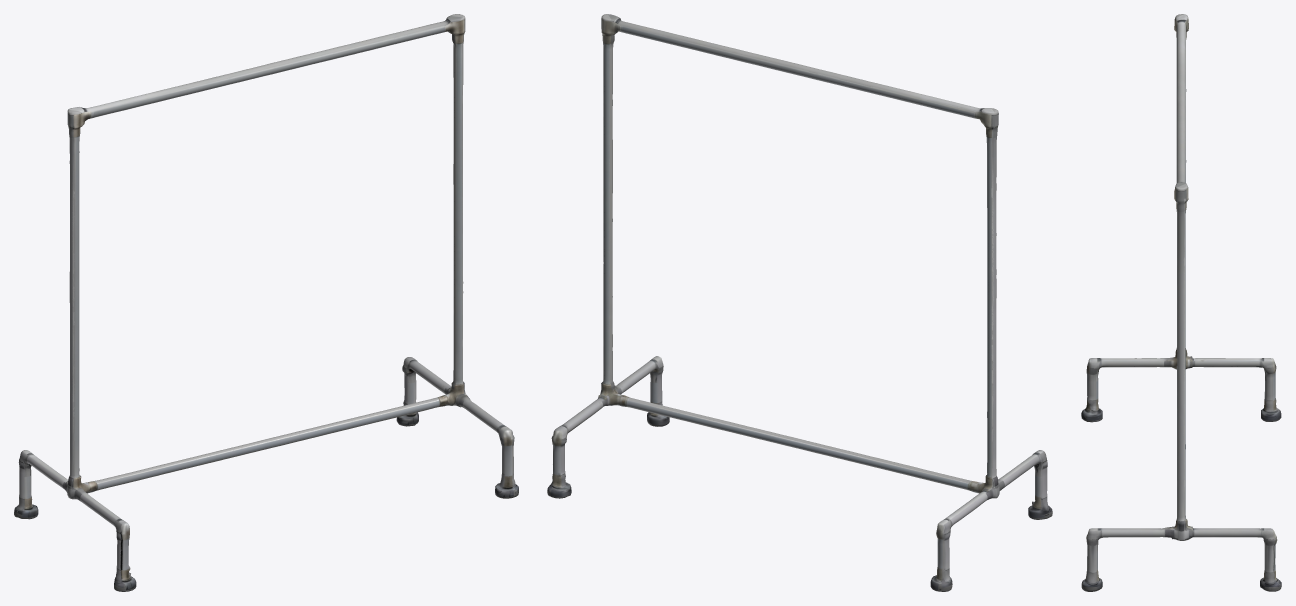
The model's file is kabykla.glb.
The picture shows the model from 3 angles, left to right: view 1: azimuth 30°, elevation 25°; view 2: azimuth 150°, elevation 25°; view 3: azimuth 270°, elevation 25°; orthographic projection. The views are drawn at different scales.
Size of the model in its own units: 1.91 by 2 by 0.903.
1 material, 1 textured.
